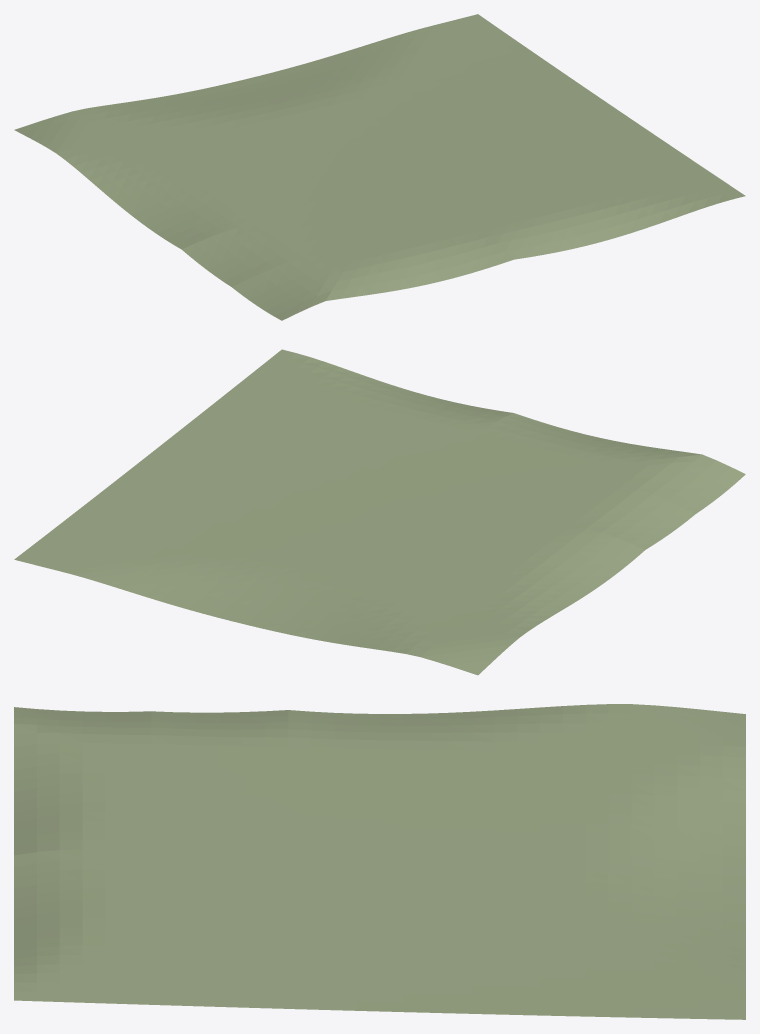
Rendered from gardens-6-6.glb.
3 views of the same model, one above another, from view 1: azimuth 30°, elevation 25°; view 2: azimuth 150°, elevation 25°; view 3: azimuth 270°, elevation 25° (orthographic). The views are drawn at different scales.
Parts seen in each view (by area): view 1: gardens-6-6; view 2: gardens-6-6; view 3: gardens-6-6.
Part boxes in pixels (x1=…): gardens-6-6: x1=14, y1=14, x2=745, y2=320; gardens-6-6: x1=14, y1=349, x2=745, y2=675; gardens-6-6: x1=14, y1=704, x2=745, y2=1019.
Size of the model in its own units: 256 by 11.91 by 256.
